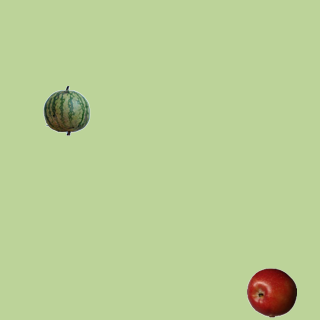Apple Braeburn: (246, 267, 296, 317)
Watermelon: (41, 85, 91, 135)
